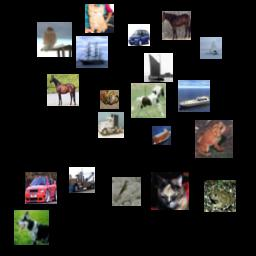automobile: (25, 172, 57, 204), (128, 24, 150, 46)
bird: (37, 22, 72, 57), (112, 177, 141, 206)
cat: (151, 172, 189, 210), (85, 4, 114, 33)
dog: (14, 210, 49, 245)
frog: (195, 120, 233, 158), (204, 180, 236, 212), (100, 90, 119, 109)
ship: (178, 80, 210, 112), (76, 36, 108, 68), (144, 53, 173, 82), (200, 37, 222, 59), (152, 126, 171, 145)
truck: (98, 112, 124, 138), (69, 167, 95, 193)
